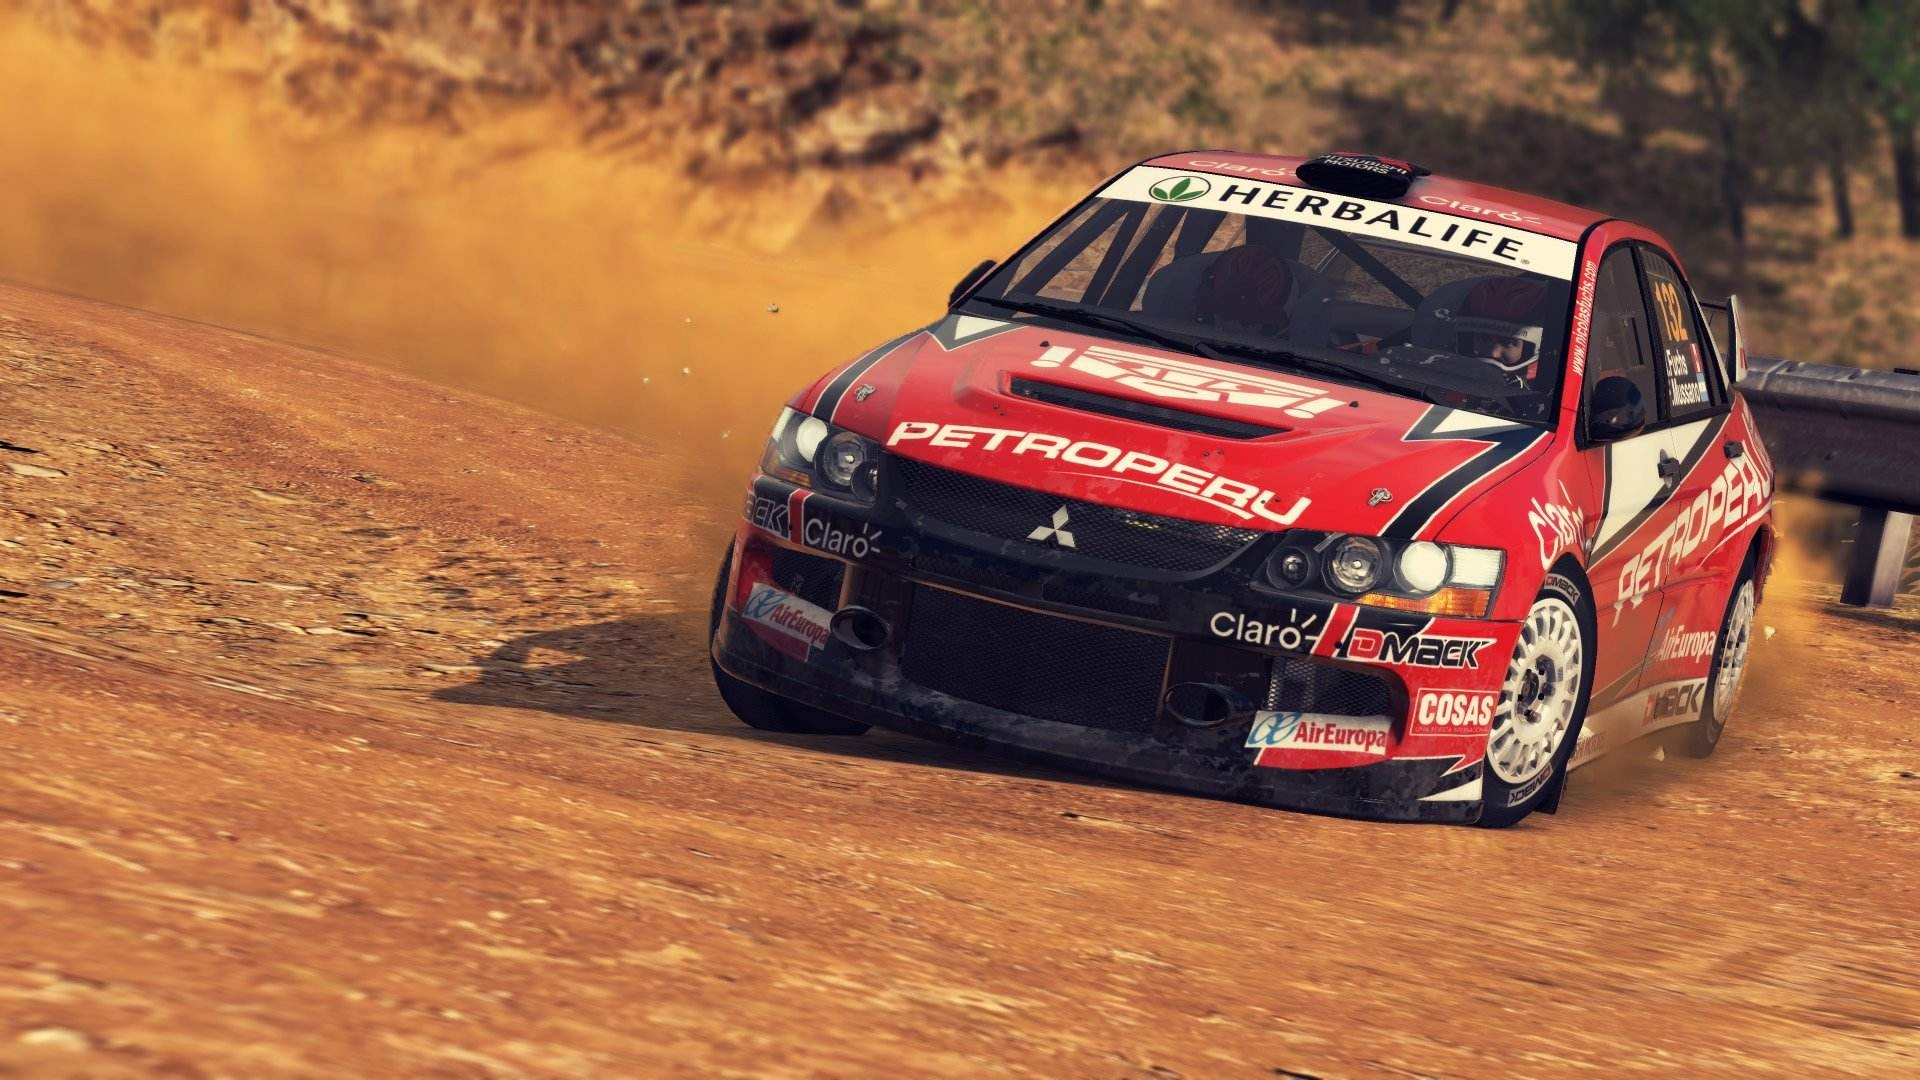racing car: (721, 149, 1793, 856)
